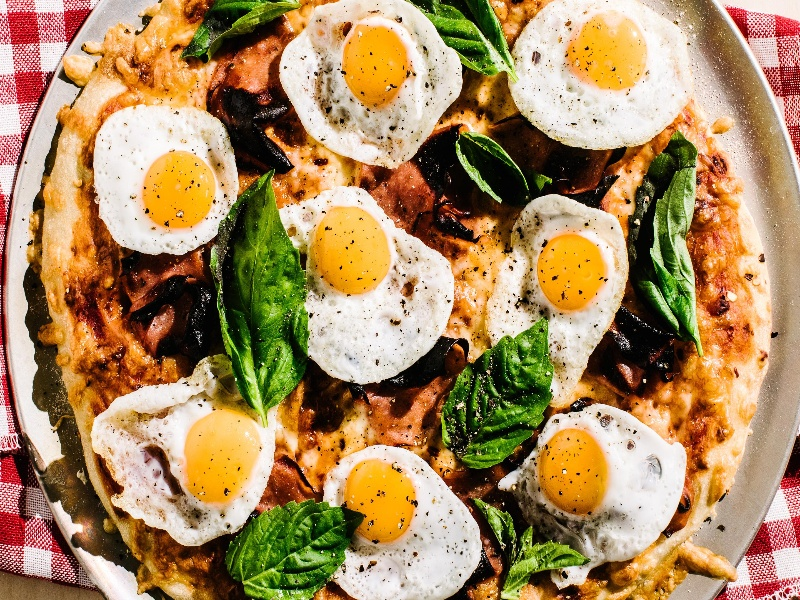oeuf: (317, 20, 433, 134), (300, 199, 407, 321), (554, 9, 663, 120), (341, 451, 446, 566), (118, 139, 231, 239), (174, 400, 261, 522), (535, 422, 629, 525), (529, 220, 619, 325)
